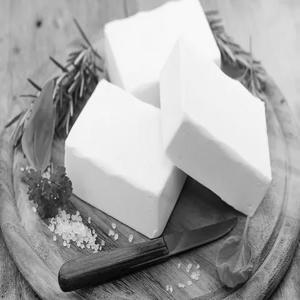butter: (156, 44, 277, 216), (63, 81, 193, 235)
